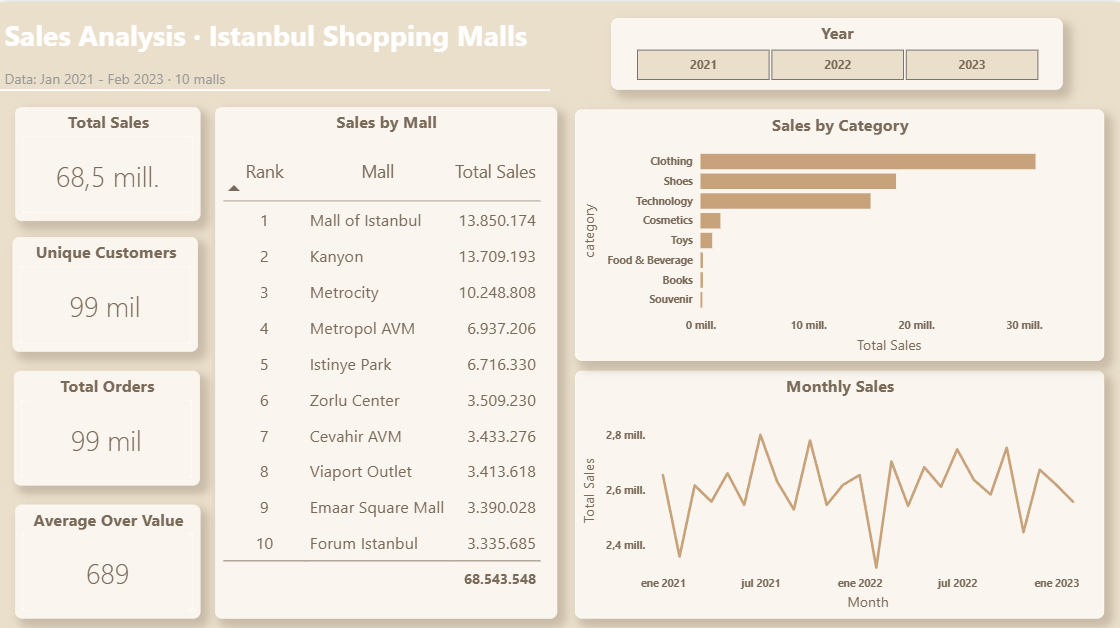

This screenshot's page, from the dashboard's own definition file:
{"tool":"powerbi","page":{"name":"SUMMARY","canvas":[1280,720],"ordinal":0},"visuals":[{"type":"textbox","box":[0,11.4,628.6,111.4],"z":0},{"type":"shape","box":[0,42.9,628.6,115.7],"z":1000},{"type":"cardVisual","title":"Total Sales","fields":{"Data":["Medidas.Total Sales"]},"box":[17.2,119.8,212.3,130.3],"z":2000},{"type":"cardVisual","title":"Average Over Value","fields":{"Data":["Medidas.Average Over Value"]},"box":[17.2,574.6,212.3,130.3],"z":3000},{"type":"cardVisual","title":"Unique Customers","fields":{"Data":["Medidas.Unique Customers"]},"box":[14.9,268.4,212.3,131.5],"z":4000},{"type":"cardVisual","title":"Total Orders","fields":{"Data":["Medidas.Total Orders"]},"box":[15.3,421.8,212.5,131.2],"z":5000},{"type":"slicer","title":"Year","fields":{"Values":["Calendar.Año"]},"box":[698.6,18.6,515.7,81.4],"z":6000},{"type":"lineChart","title":"Monthly Sales","fields":{"Category":["Calendar.Date.Variación.Jerarquía de fechas.Año","Calendar.Date.Variación.Jerarquía de fechas.Mes"],"Y":["Medidas.Total Sales"]},"box":[657.8,421.4,604.4,283.5],"z":7000},{"type":"tableEx","title":"Sales by Mall","fields":{"Values":["Medidas.Mall Rank","customer_shopping_clean.shopping_mall","Medidas.Total Sales"]},"box":[245.2,119.8,390.9,585.1],"z":8000},{"type":"clusteredBarChart","title":"Sales by Category","fields":{"Category":["customer_shopping_clean.category"],"Y":["Medidas.Total Sales"]},"box":[657.6,122.9,605,287.5],"z":9000}]}

Visuals, with their boxes in screenshot pixels (x1, y1, x2, y2), scaled from the page's 1280x720 canvas onto the 1120x628 screenshot:
textbox: region(0, 10, 550, 107)
shape: region(0, 37, 550, 138)
"Total Sales" cardVisual: region(15, 104, 201, 218)
"Average Over Value" cardVisual: region(15, 501, 201, 615)
"Unique Customers" cardVisual: region(13, 234, 199, 349)
"Total Orders" cardVisual: region(13, 368, 199, 482)
"Year" slicer: region(611, 16, 1063, 87)
"Monthly Sales" lineChart: region(576, 368, 1104, 615)
"Sales by Mall" tableEx: region(215, 104, 557, 615)
"Sales by Category" clusteredBarChart: region(575, 107, 1105, 358)
